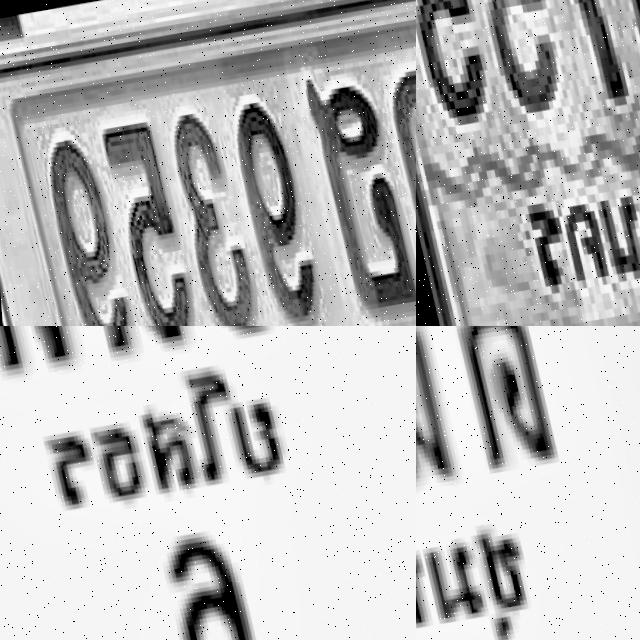license-plate: (0, 0, 416, 326), (0, 326, 416, 640), (416, 0, 640, 326), (416, 326, 640, 640)
